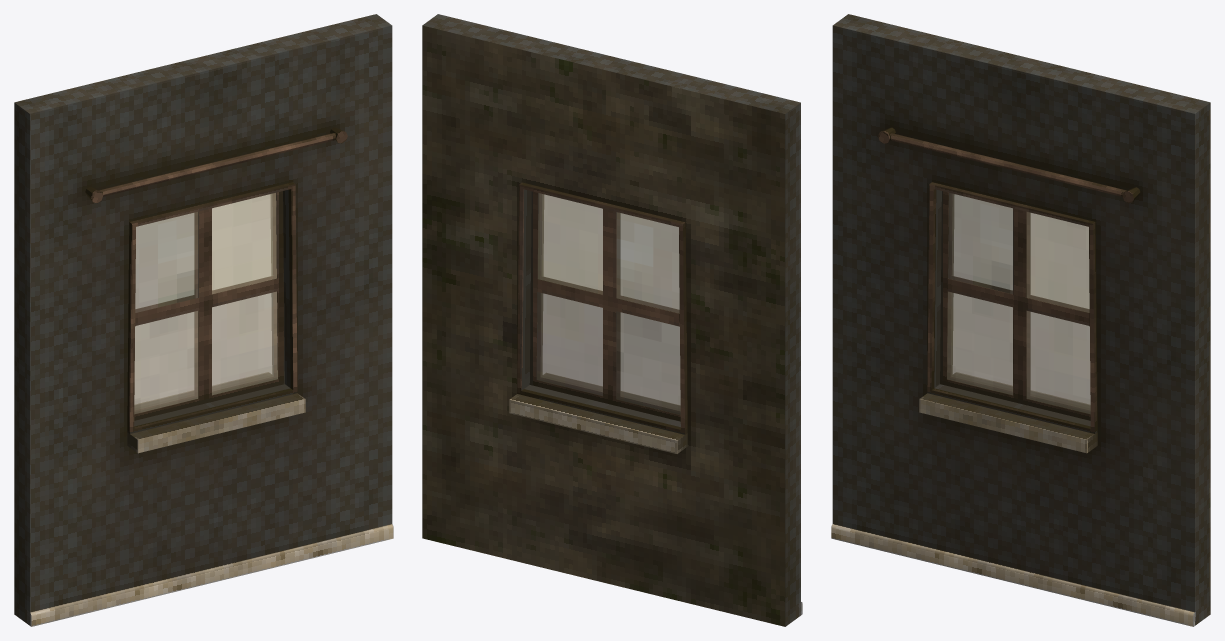
The model's file is Wall_Window.glb.
The picture shows the model from 3 angles, left to right: view 1: azimuth 30°, elevation 25°; view 2: azimuth 150°, elevation 25°; view 3: azimuth 330°, elevation 25°; orthographic projection.
Parts seen in each view (by area): view 1: Wall_Window; view 2: Wall_Window; view 3: Wall_Window.
Boxes of the visible parts, x1,y1,x2,y2 form: Wall_Window: (14, 14, 393, 626); Wall_Window: (422, 14, 802, 626); Wall_Window: (831, 14, 1210, 626).
Size of the model in its own units: 2 by 2.7 by 0.3534.
2 materials, 2 textured.
